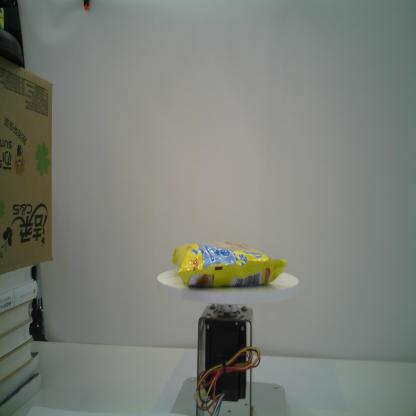Instant Noodles: (172, 241, 288, 288)
